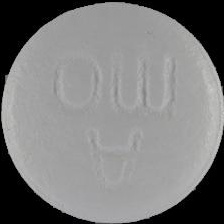49884-826: (0, 0, 224, 224)
